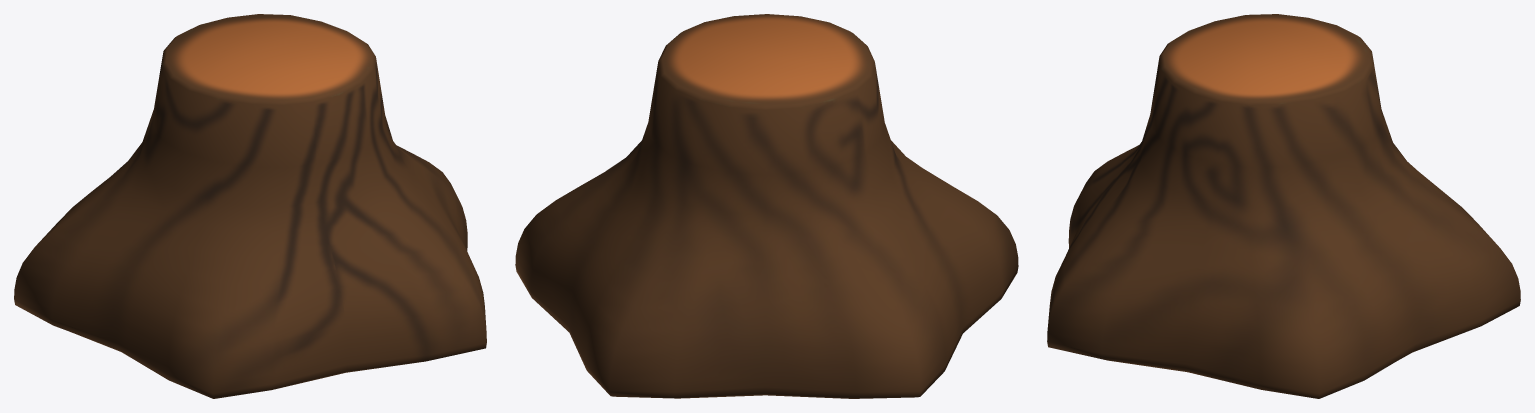
The model's file is cutted tree2.fbx.
The picture shows the model from 3 angles, left to right: view 1: azimuth 30°, elevation 25°; view 2: azimuth 150°, elevation 25°; view 3: azimuth 270°, elevation 25°; orthographic projection. The views are drawn at different scales.
Visible parts, largest first — view 1: cutted tree2; view 2: cutted tree2; view 3: cutted tree2.
Part boxes in pixels (x1=…): cutted tree2: x1=14, y1=14, x2=486, y2=398; cutted tree2: x1=515, y1=14, x2=1018, y2=398; cutted tree2: x1=1047, y1=14, x2=1520, y2=398.
Size of the model in its own units: 140 by 77.49 by 138.
Materials: 1 (1 with a texture image).
